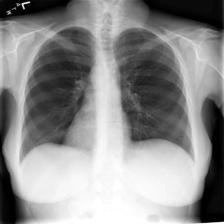normal: (14, 22, 196, 166)
